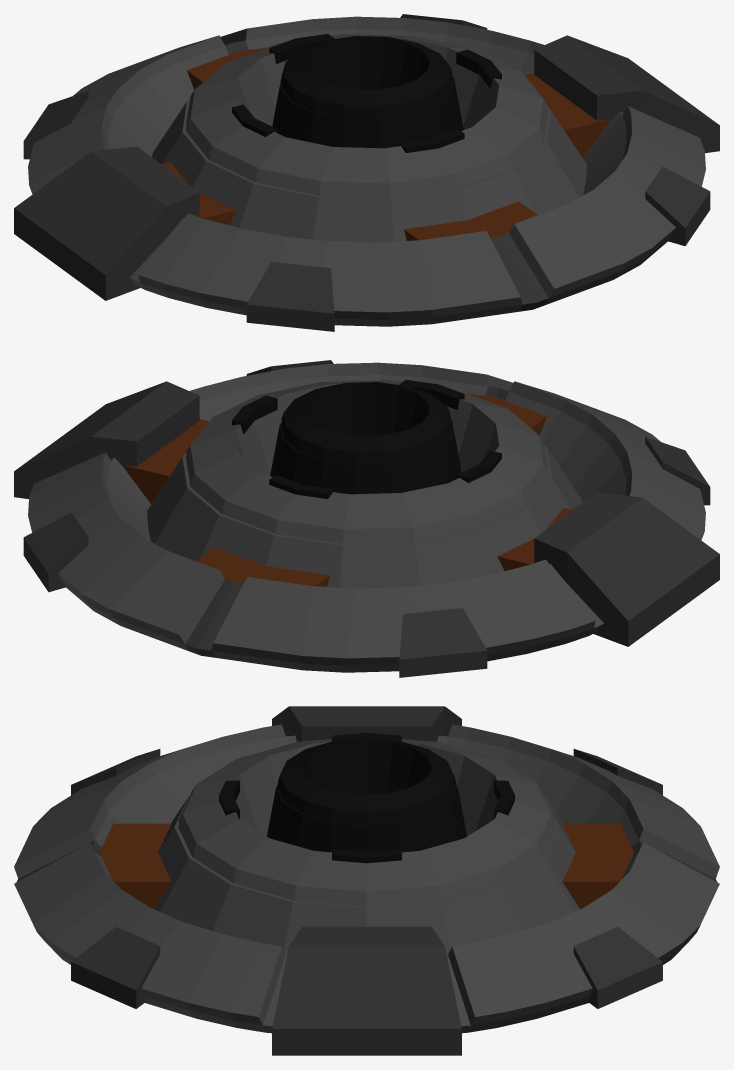
Rendered from Turret_Teleporter.obj.
3 renders of one model, top to bottom at view 1: azimuth 30°, elevation 25°; view 2: azimuth 150°, elevation 25°; view 3: azimuth 270°, elevation 25°, orthographic. The views are drawn at different scales.
Parts seen in each view (by area): view 1: Turret_Teleporter_Cylinder.029; view 2: Turret_Teleporter_Cylinder.029; view 3: Turret_Teleporter_Cylinder.029.
Boxes of the visible parts, bbox=[...] form: Turret_Teleporter_Cylinder.029: bbox=[14, 14, 719, 331]; Turret_Teleporter_Cylinder.029: bbox=[14, 360, 719, 677]; Turret_Teleporter_Cylinder.029: bbox=[14, 706, 719, 1055].
Size of the model in its own units: 1.16 by 0.2325 by 1.11.
